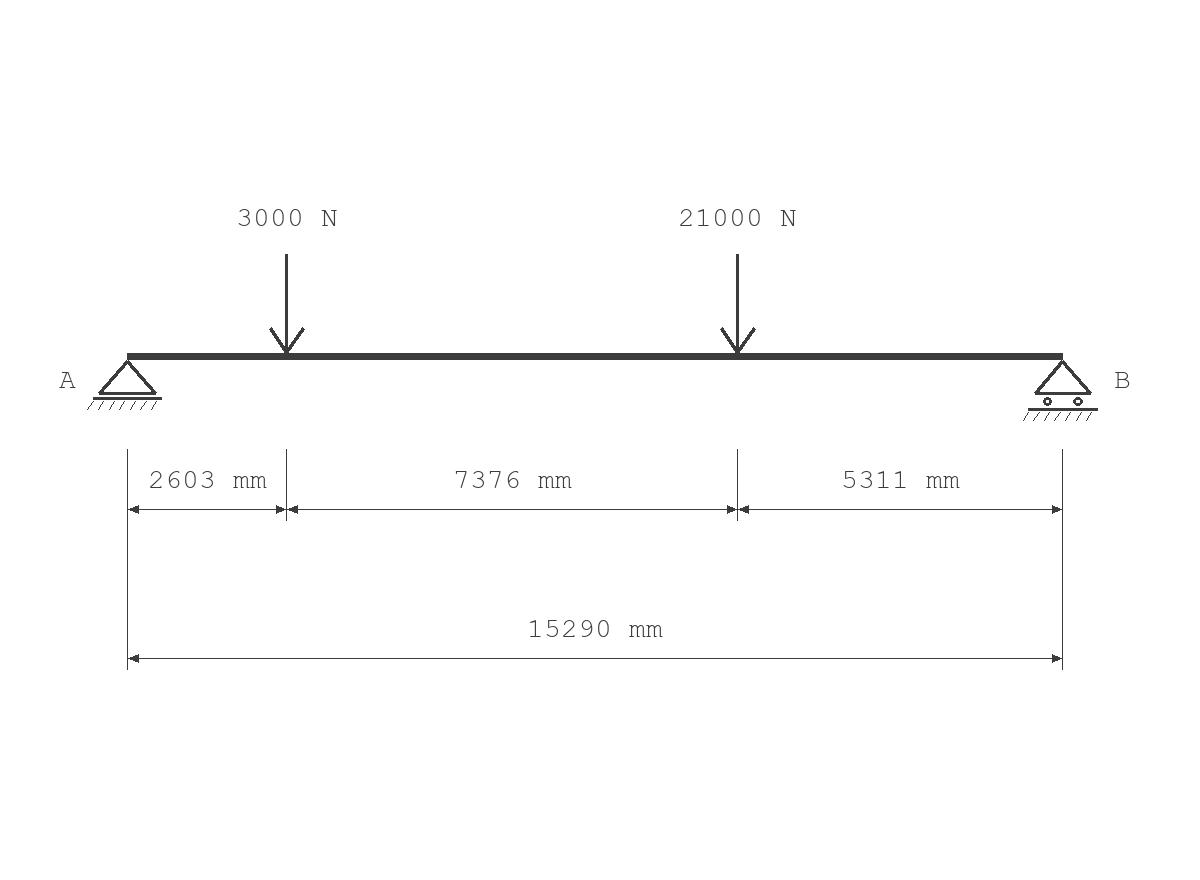pin_support: (87, 360, 162, 410)
point_load: (269, 254, 305, 354), (720, 254, 756, 354)
roller_support: (1023, 360, 1098, 421)
